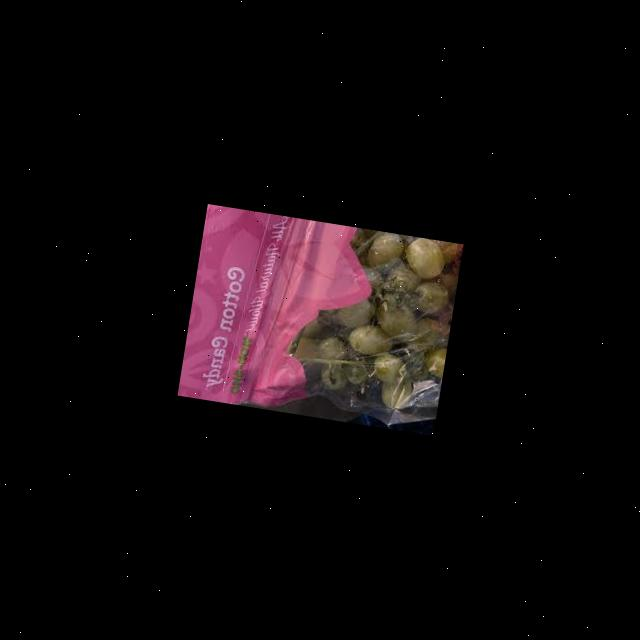grape: (293, 222, 462, 416)
